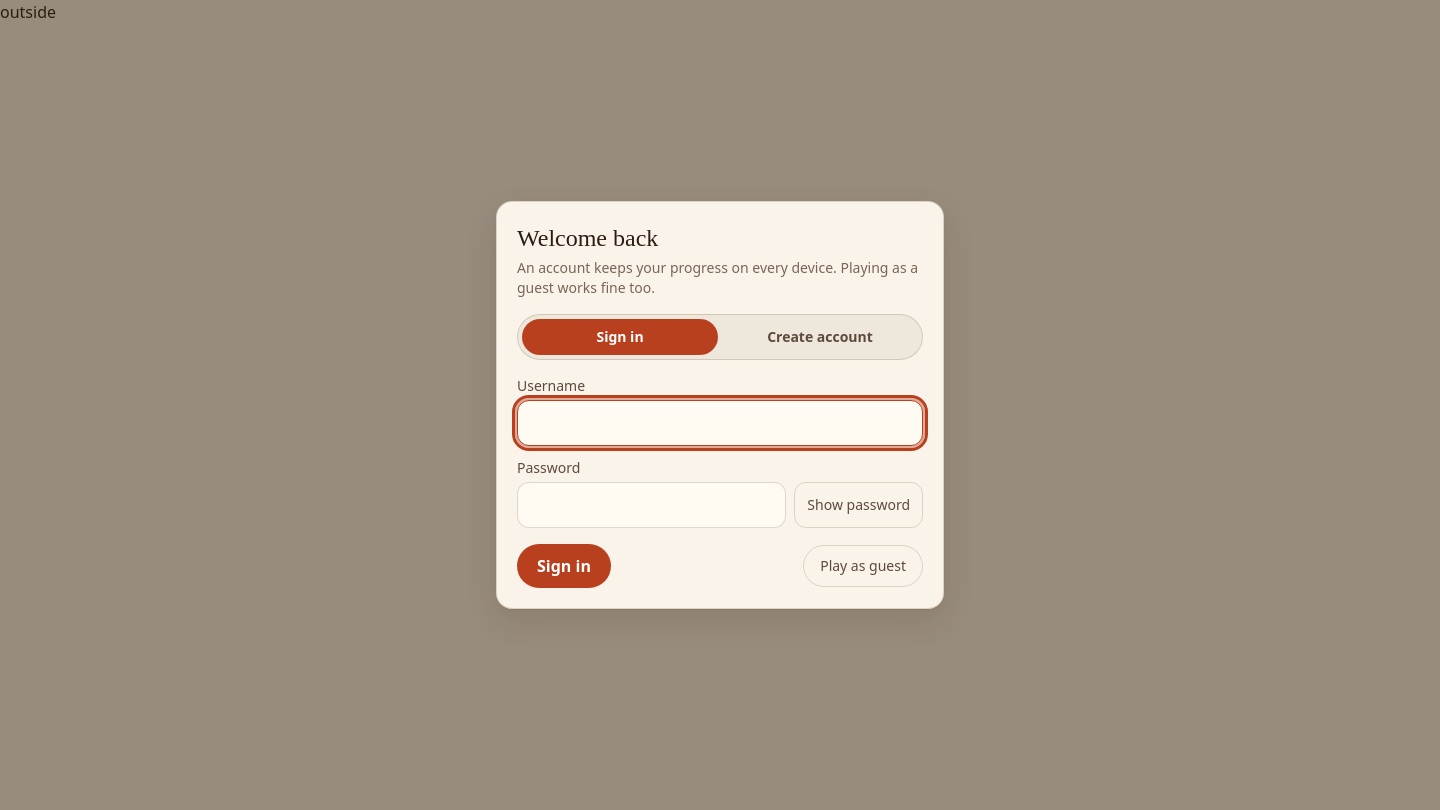
Test: AuthDialog › create account validates before sending
Click the tab "Create account" at (820, 337), box [722,319,918,355]
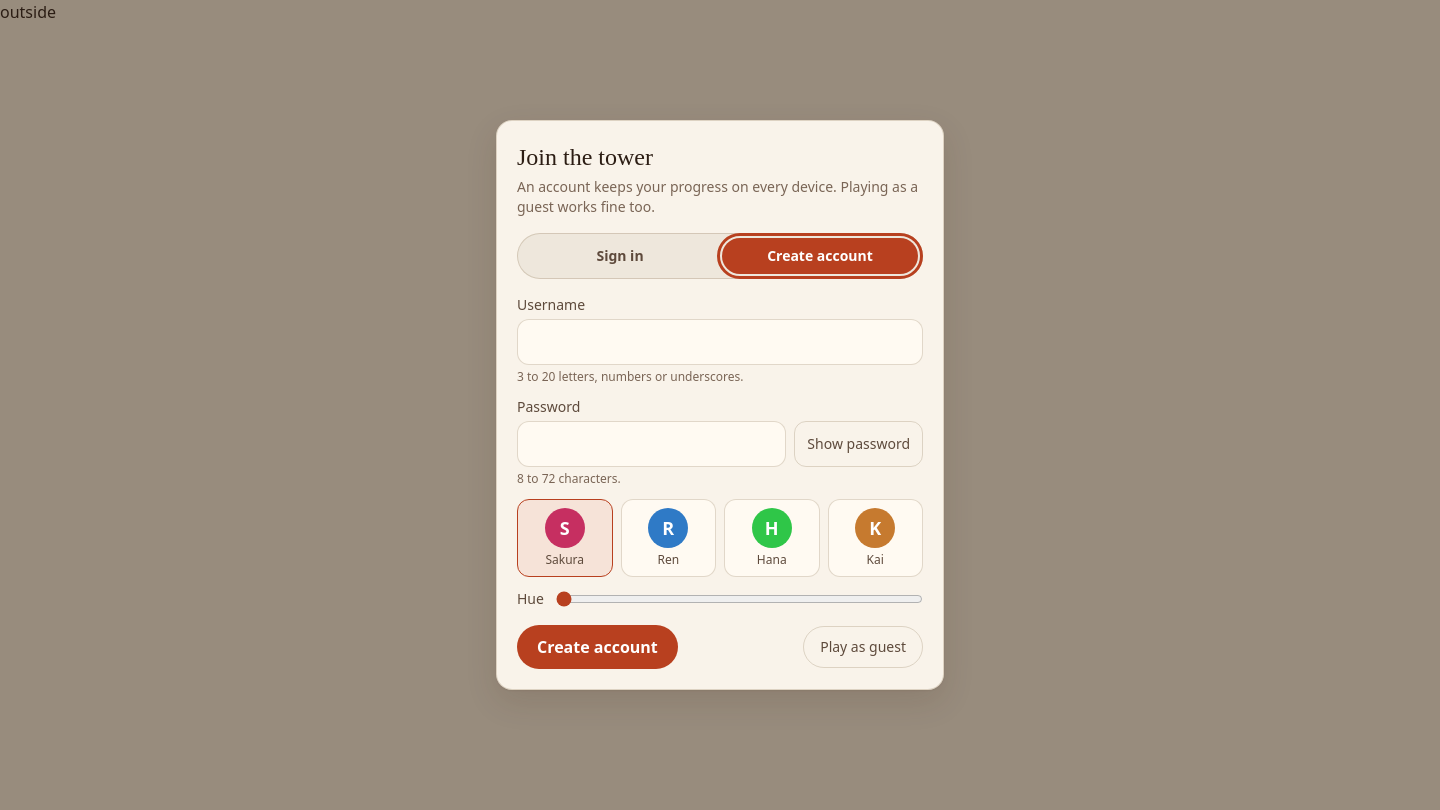
Type "a b" into the field labelled "Username" at (720, 342), box [517,319,923,365]
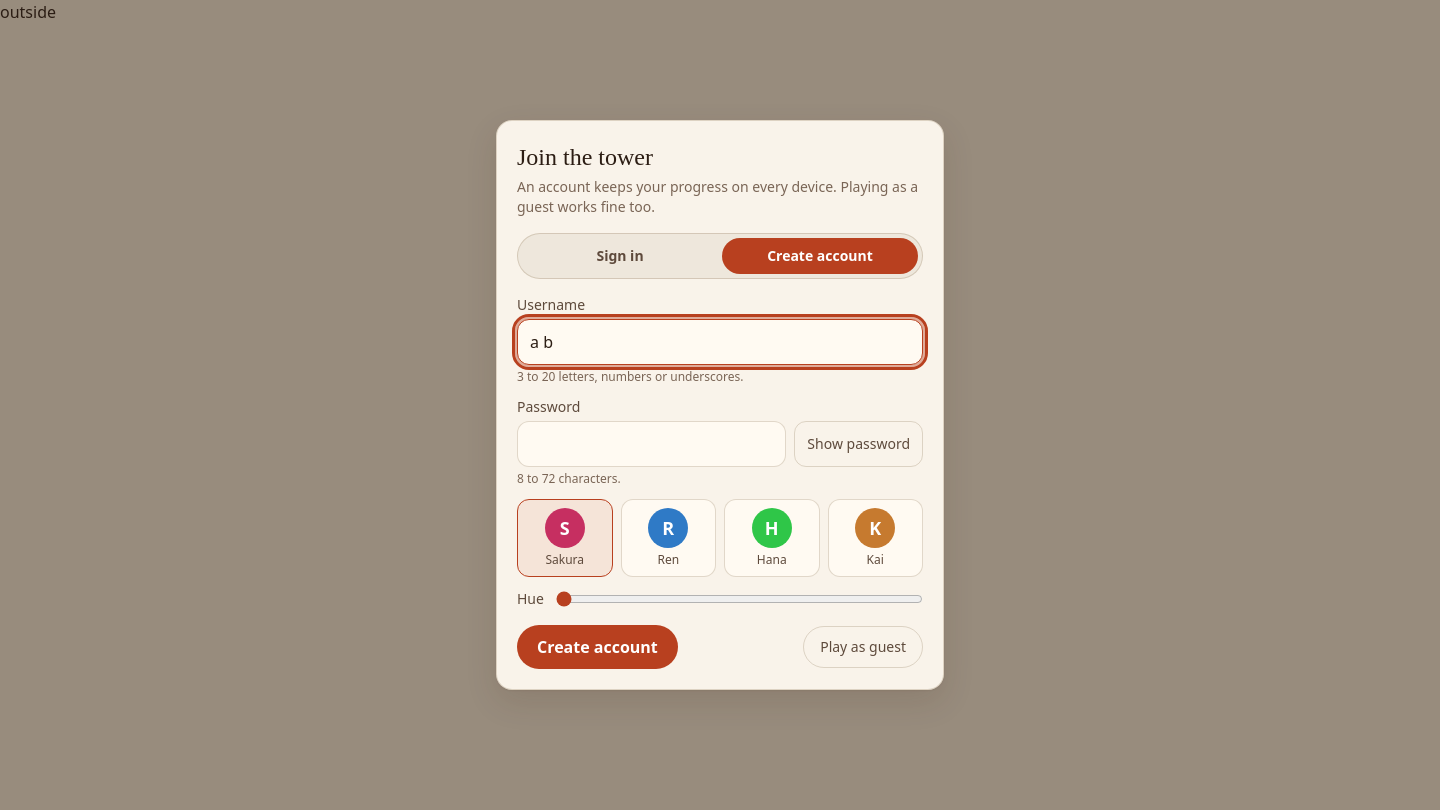
Type "short" into the password field labelled "Password" at (652, 444), box [517,421,786,467]
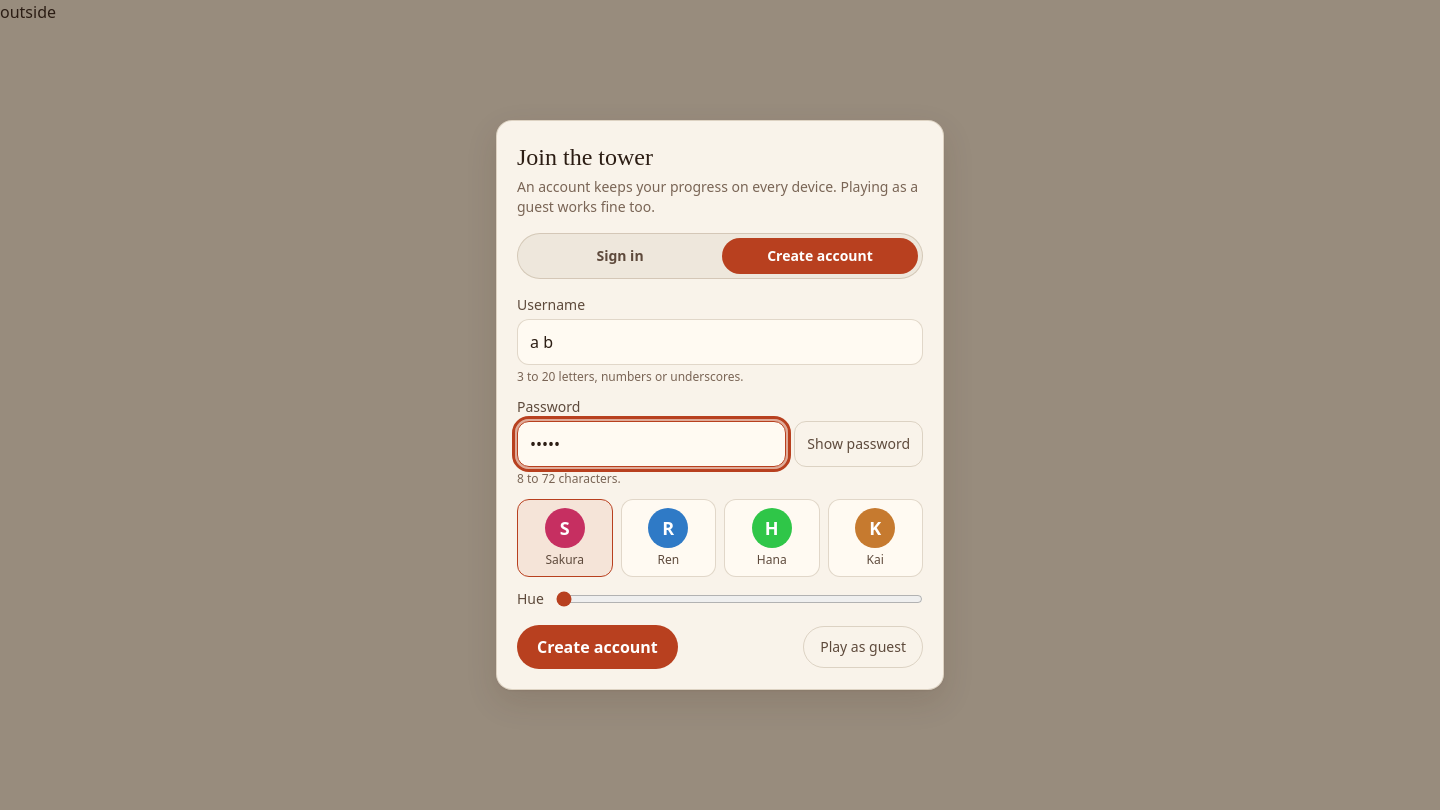
Click the button "Create account" at (597, 647), box [517,625,678,669]
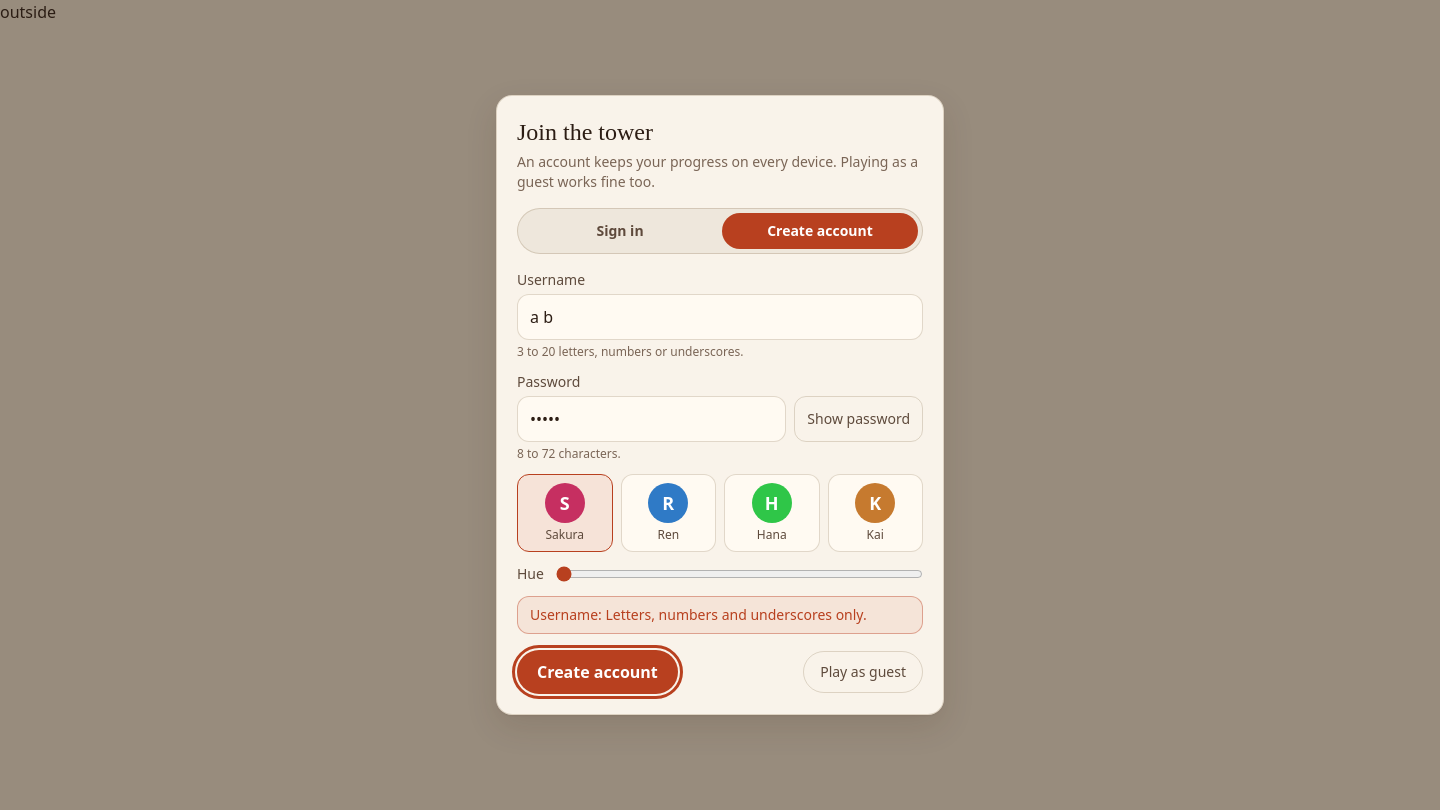
Expected: the message "Username: Letters, numbers and underscores only." is shown, [517,596,923,634]
